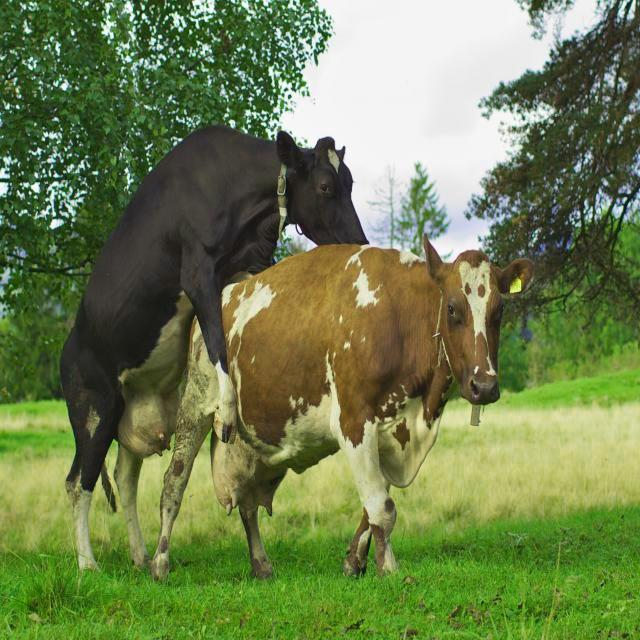cow: (61, 126, 366, 569), (212, 240, 532, 577), (152, 326, 215, 577)
